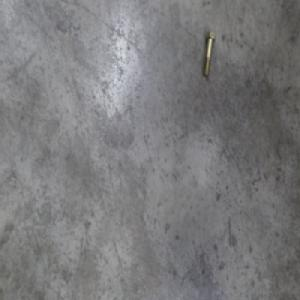Bolt: (202, 31, 216, 78)
